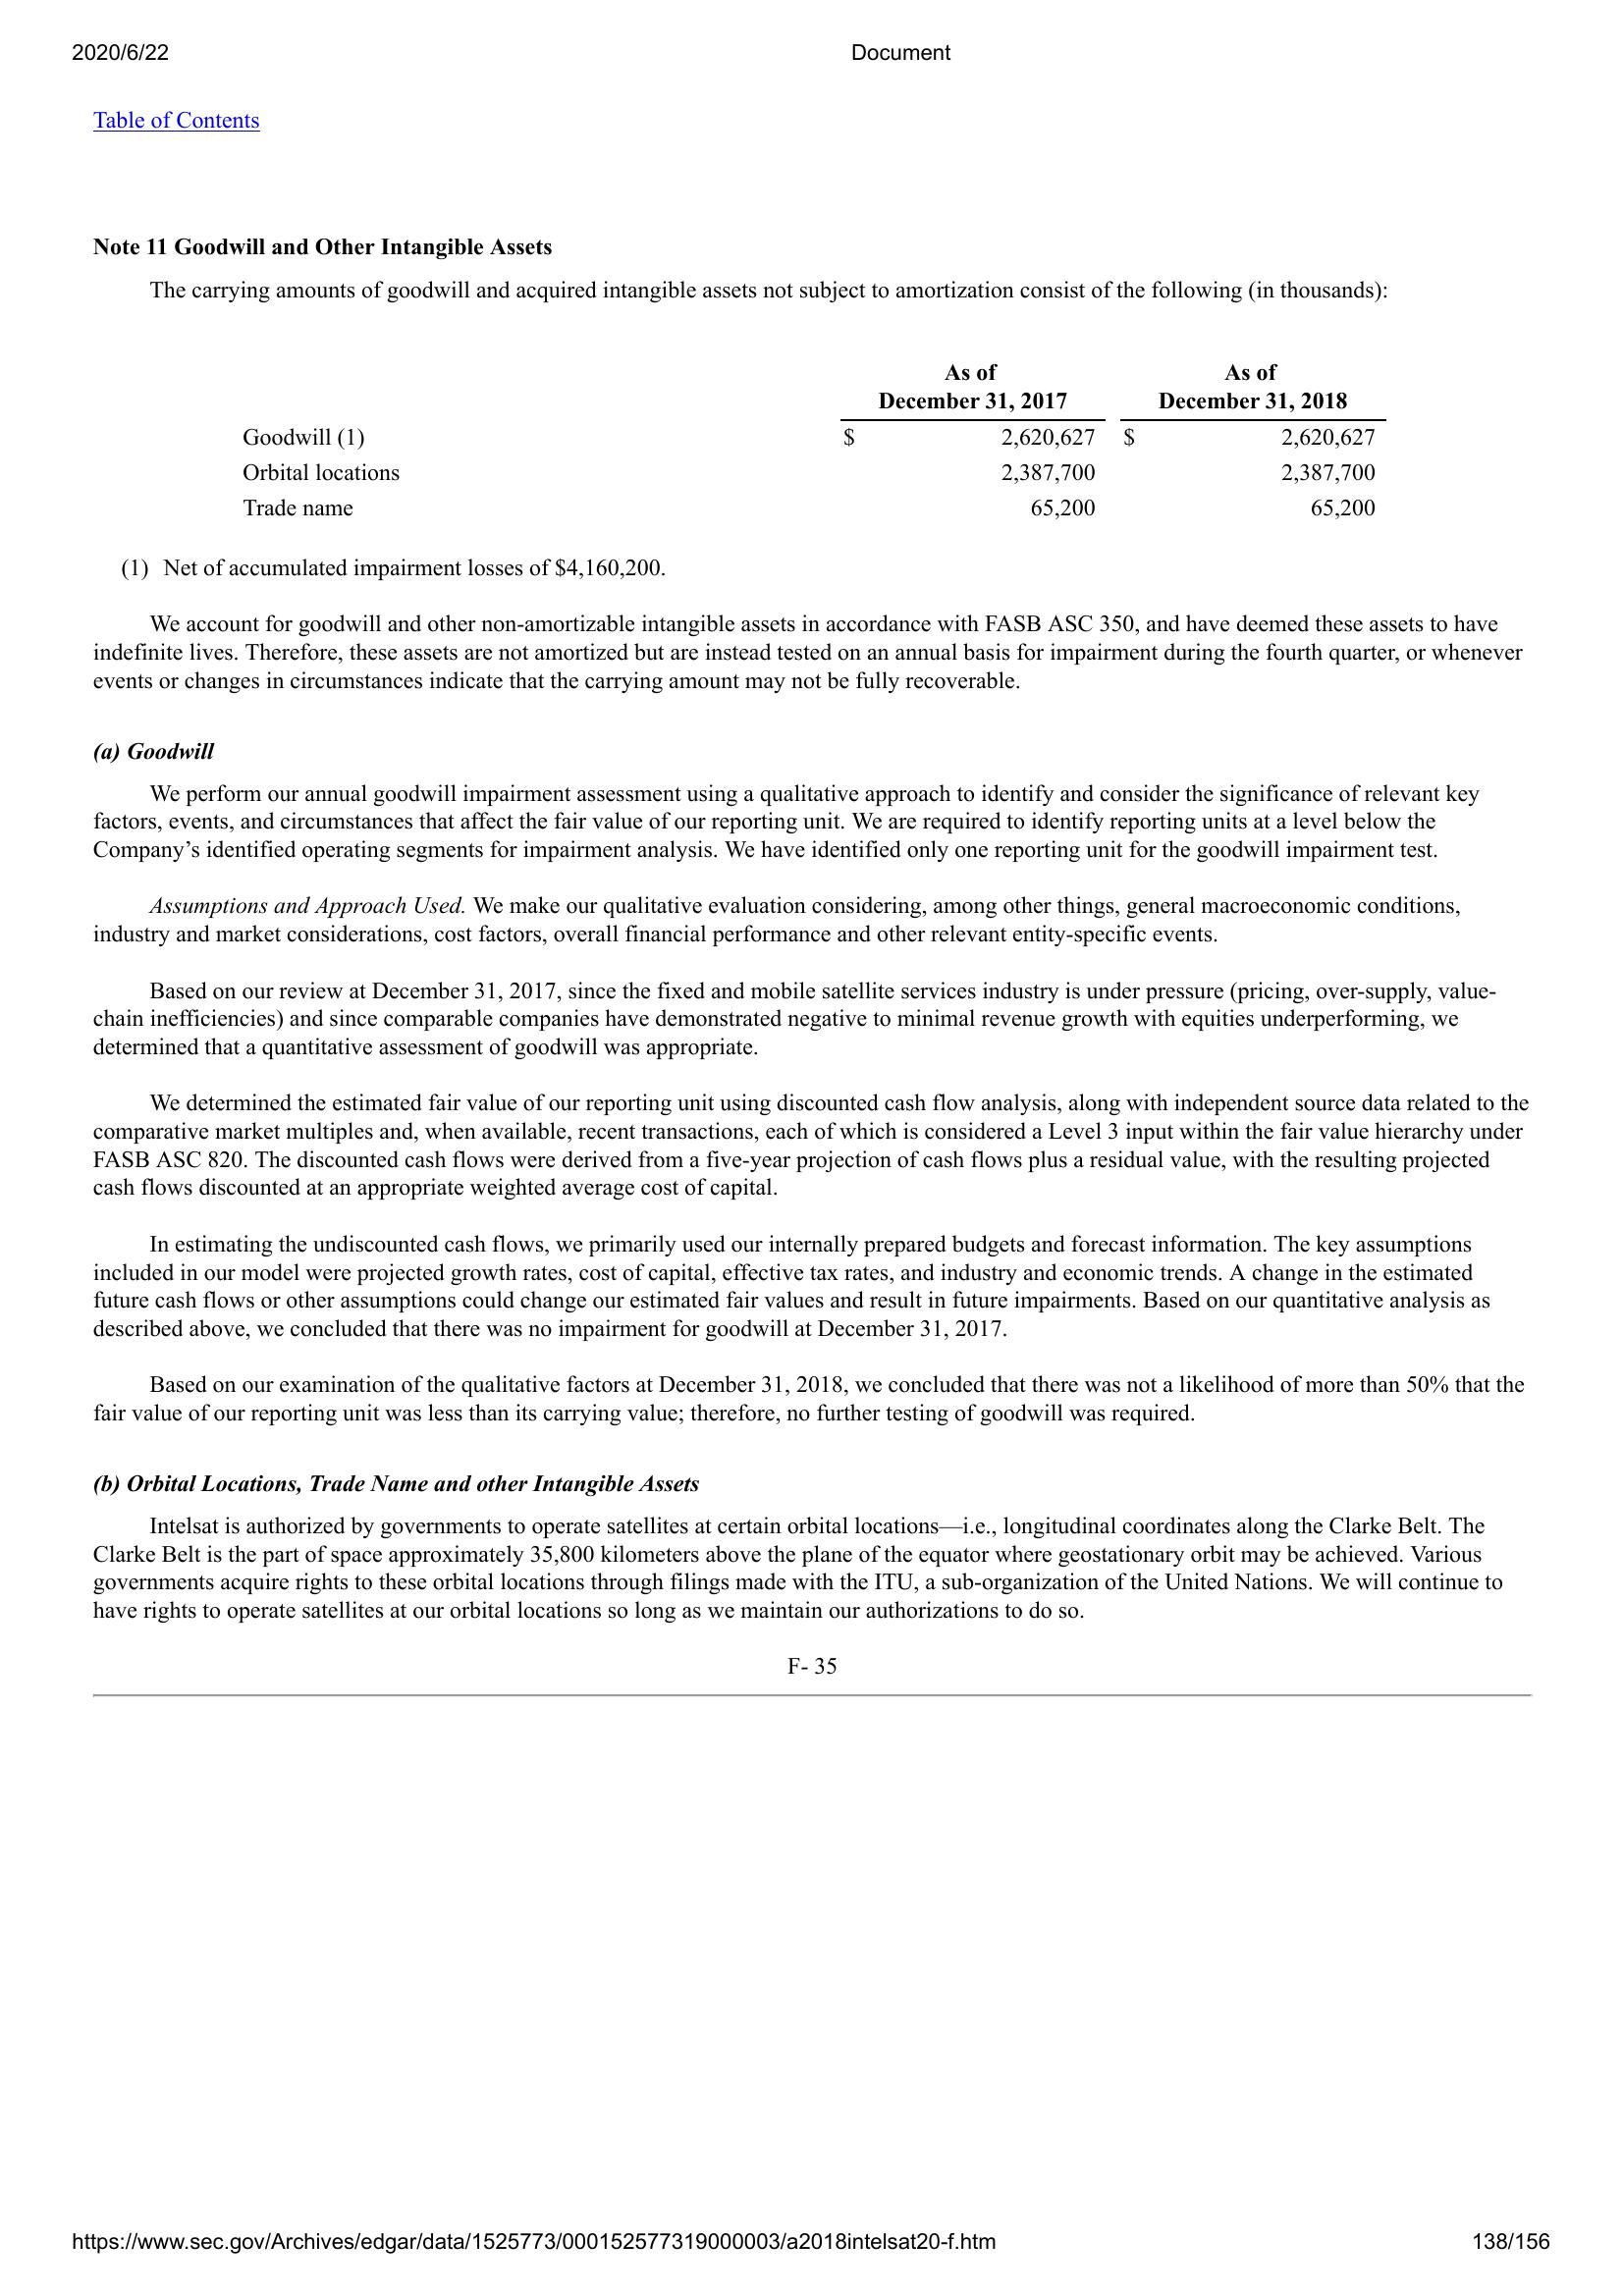table: (211, 342, 1389, 532)
